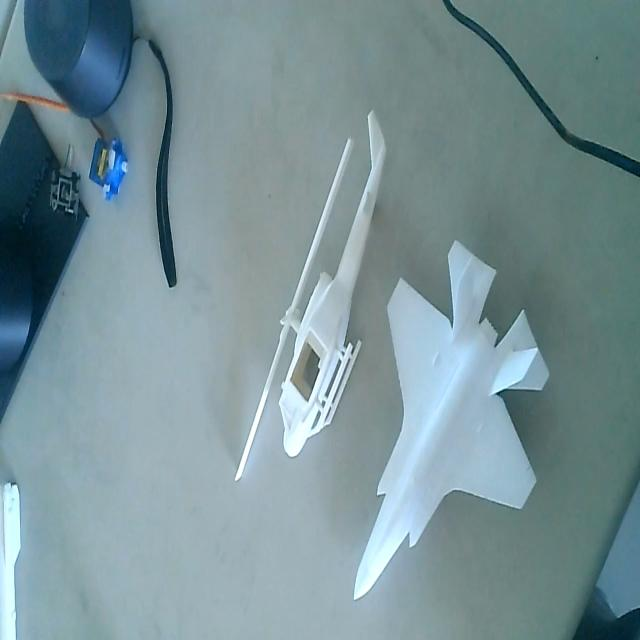Helicopter: (235, 100, 387, 479)
Jet: (350, 245, 553, 601)
Rocket: (0, 475, 22, 640)
